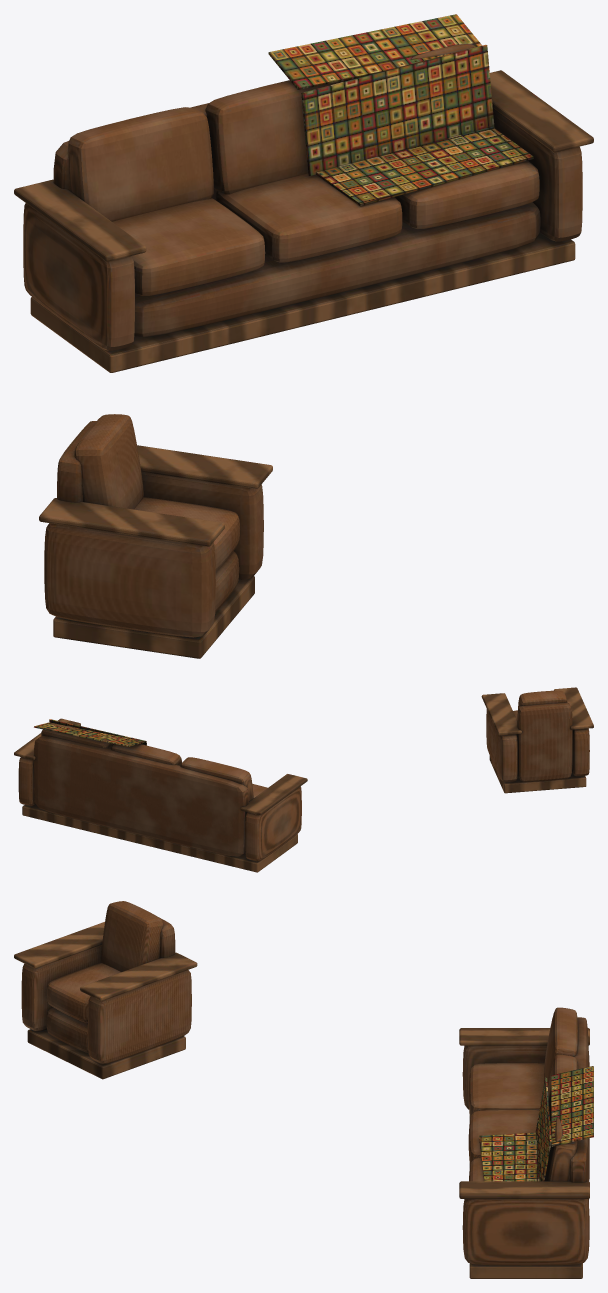
Rendered from wz_polster.glb.
3 renders of one model, top to bottom at view 1: azimuth 30°, elevation 25°; view 2: azimuth 150°, elevation 25°; view 3: azimuth 270°, elevation 25°, orthographic. The views are drawn at different scales.
Visible parts, largest first — view 1: wz_polster; view 2: wz_polster; view 3: wz_polster.
Boxes of the visible parts, x1,y1,x2,y2 form: wz_polster: (14, 14, 593, 658); wz_polster: (14, 687, 593, 872); wz_polster: (14, 901, 593, 1278).
Bounding box in the file's own units: 4.49 × 1.05 × 4.
1 material, 1 textured.
